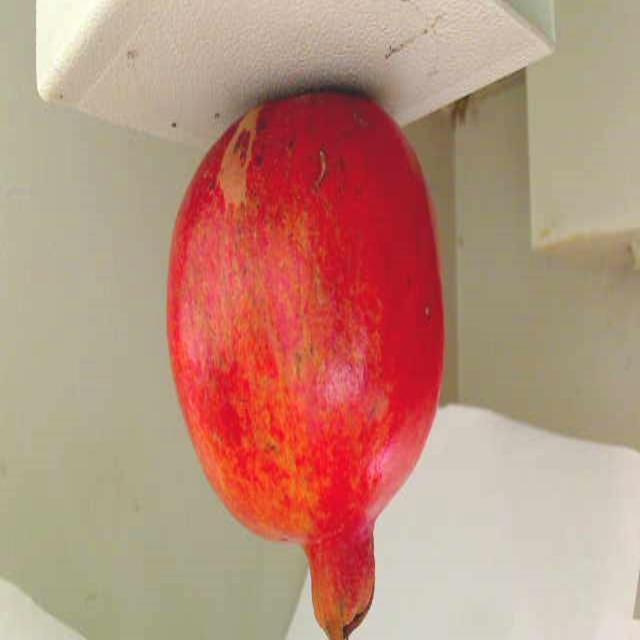pomegranate: (161, 76, 453, 640)
